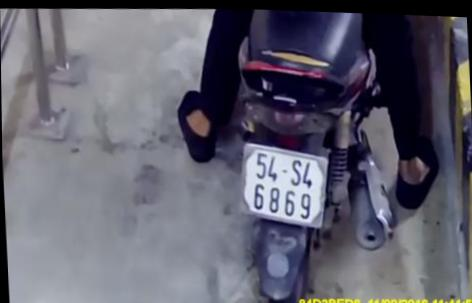LP: (232, 131, 334, 232)
